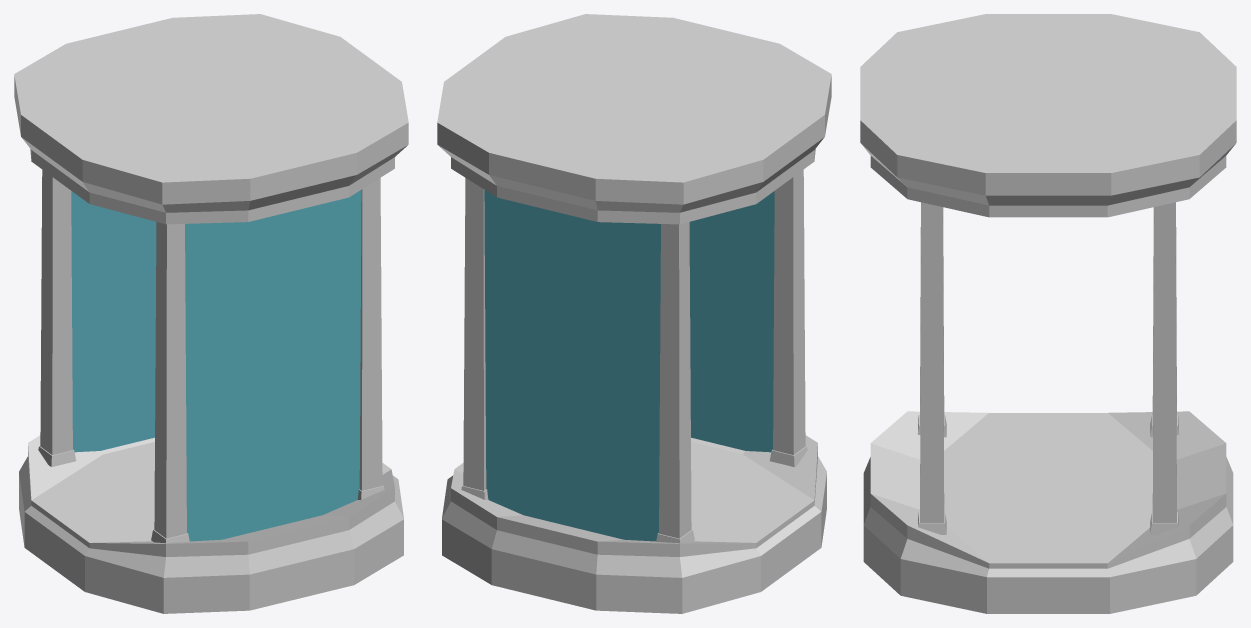
The model's file is container 1.fbx.
The picture shows the model from 3 angles, left to right: view 1: azimuth 30°, elevation 25°; view 2: azimuth 150°, elevation 25°; view 3: azimuth 270°, elevation 25°; orthographic projection. The views are drawn at different scales.
Visible parts, largest first — view 1: Cube; view 2: Cube; view 3: Cube.
Boxes of the visible parts, <box> form: Cube: <box>14,14,408,613</box>; Cube: <box>437,14,831,613</box>; Cube: <box>860,14,1236,613</box>.
Bounding box in the file's own units: 611 × 792 × 611.
